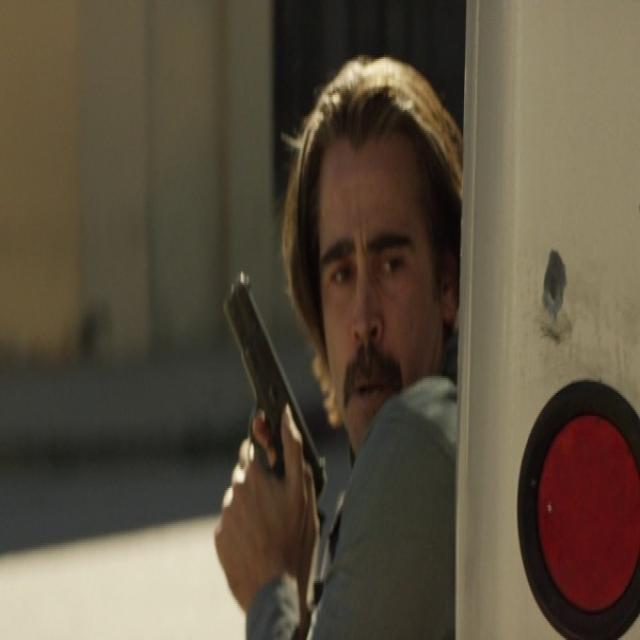weapons: (207, 239, 327, 596)
